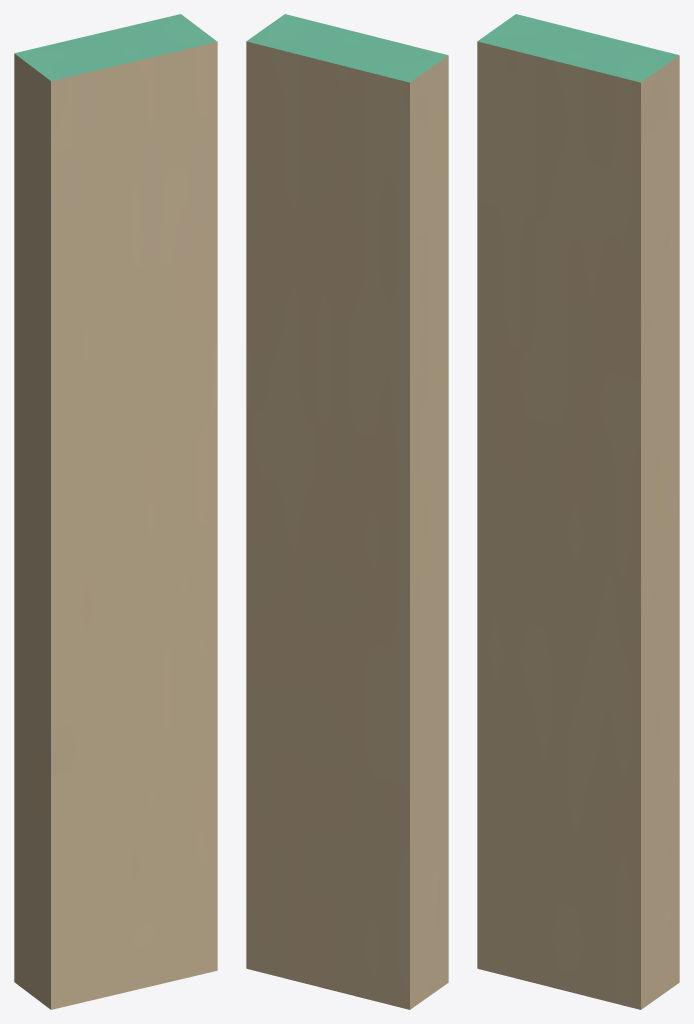
File: Blocks-073.fbx
The picture shows the model from 3 angles, left to right: view 1: azimuth 30°, elevation 25°; view 2: azimuth 150°, elevation 25°; view 3: azimuth 330°, elevation 25°; orthographic projection.
Visible parts, largest first — view 1: Blocks-073; view 2: Blocks-073; view 3: Blocks-073.
Part boxes in pixels (x1,y1,x2,y2): Blocks-073: [14, 14, 217, 1009]; Blocks-073: [246, 14, 448, 1009]; Blocks-073: [477, 14, 679, 1009].
Size of the model in its own units: 5982 by 31929 by 2442.
